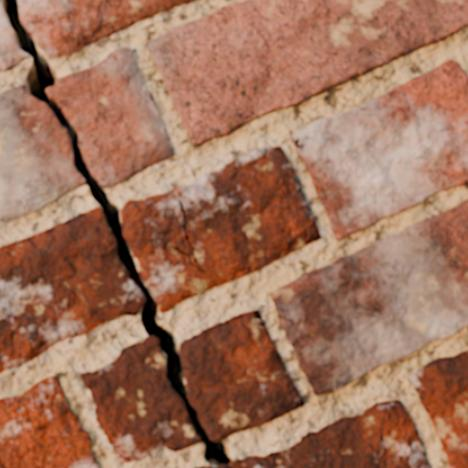brick: (146, 0, 467, 145), (270, 201, 467, 395), (291, 61, 467, 240), (0, 378, 97, 467), (411, 351, 467, 467)
broken_brick: (120, 146, 322, 314), (0, 206, 141, 374), (48, 47, 175, 188), (180, 310, 305, 440), (80, 336, 200, 464), (232, 399, 431, 467), (0, 84, 86, 224), (21, 0, 195, 61), (0, 0, 29, 72), (195, 466, 216, 467)
crack: (1, 0, 233, 467), (253, 310, 272, 344), (154, 142, 173, 164), (142, 8, 169, 20), (296, 235, 321, 247), (278, 315, 300, 327), (291, 137, 305, 148), (0, 457, 6, 467)
